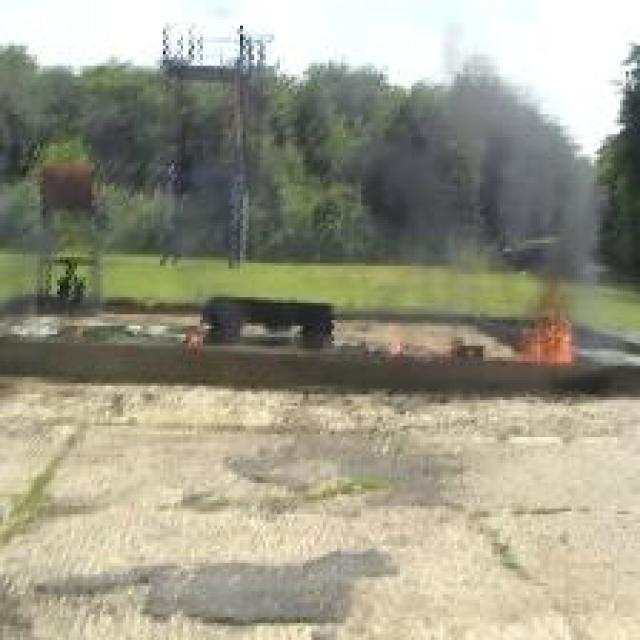Fire: (518, 272, 573, 364)
